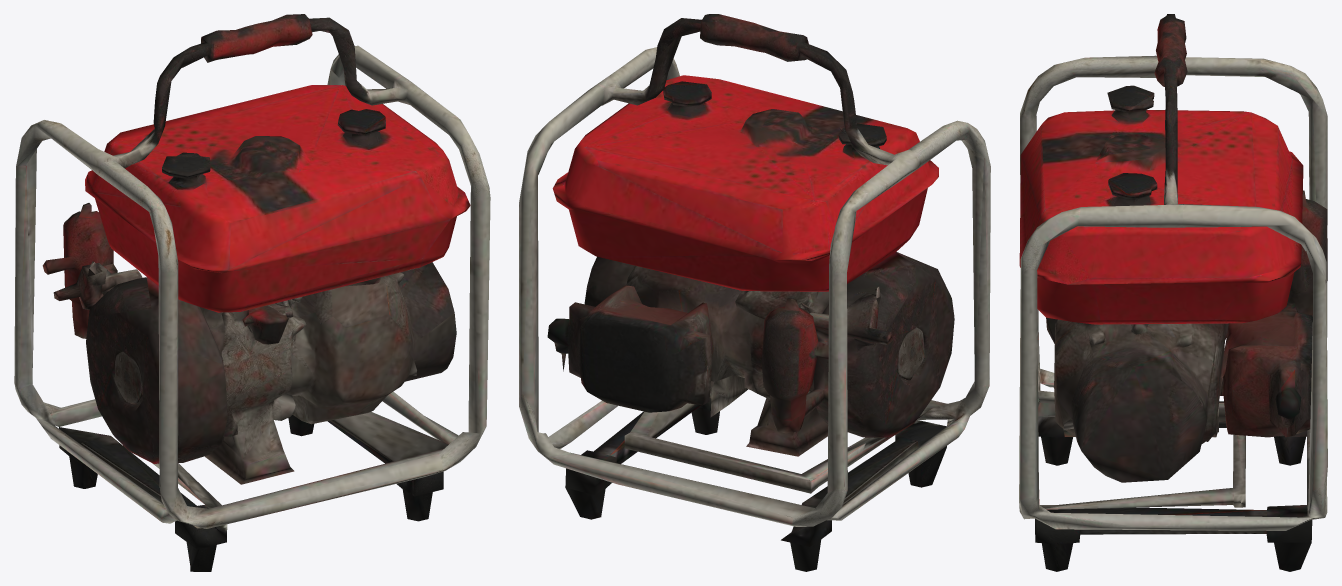
The model's file is generator.glb.
The picture shows the model from 3 angles, left to right: view 1: azimuth 30°, elevation 25°; view 2: azimuth 150°, elevation 25°; view 3: azimuth 270°, elevation 25°; orthographic projection.
Size of the model in its own units: 1.38 by 1.9 by 1.11.
1 material, 1 textured.
